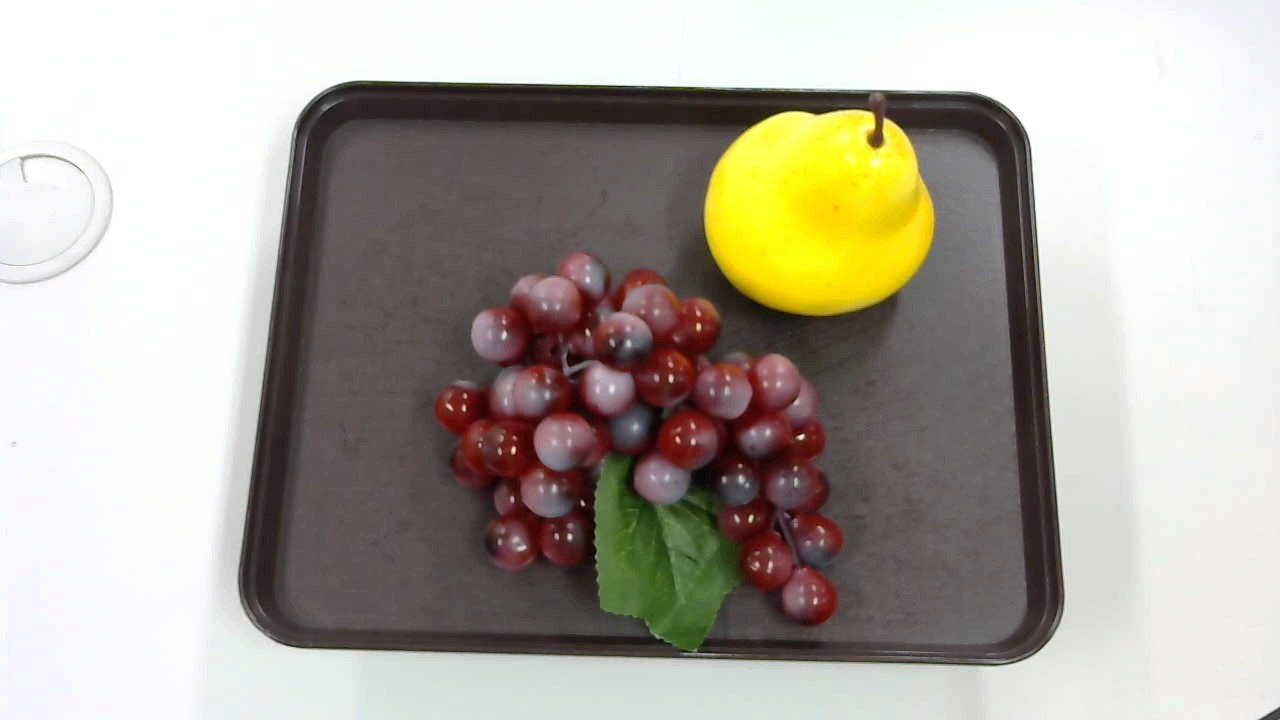grape: (429, 256, 851, 646)
yellow pear: (701, 88, 937, 325)
